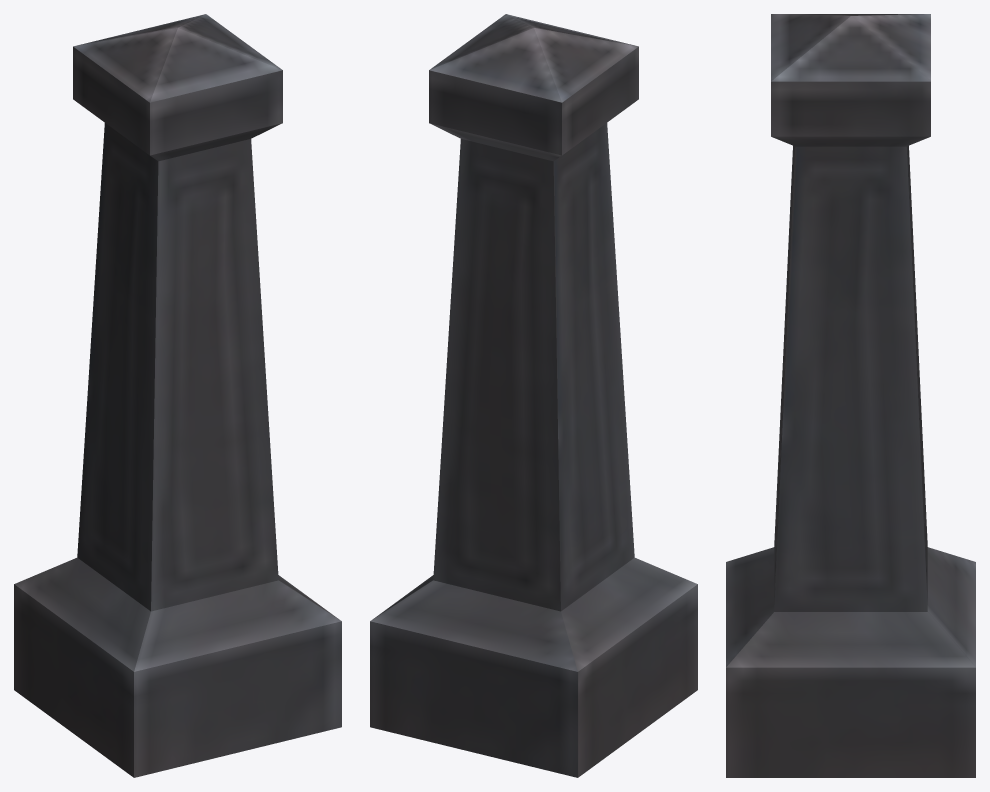
The model's file is paran_fence.FBX.
The picture shows the model from 3 angles, left to right: view 1: azimuth 30°, elevation 25°; view 2: azimuth 150°, elevation 25°; view 3: azimuth 270°, elevation 25°; orthographic projection. The views are drawn at different scales.
Parts seen in each view (by area): view 1: Object113; view 2: Object113; view 3: Object113.
Part boxes in pixels (bbox=[...]): Object113: bbox=[14, 14, 341, 777]; Object113: bbox=[370, 14, 697, 777]; Object113: bbox=[726, 14, 975, 777].
Bounding box in the file's own units: 7.64 × 23.92 × 7.64.
